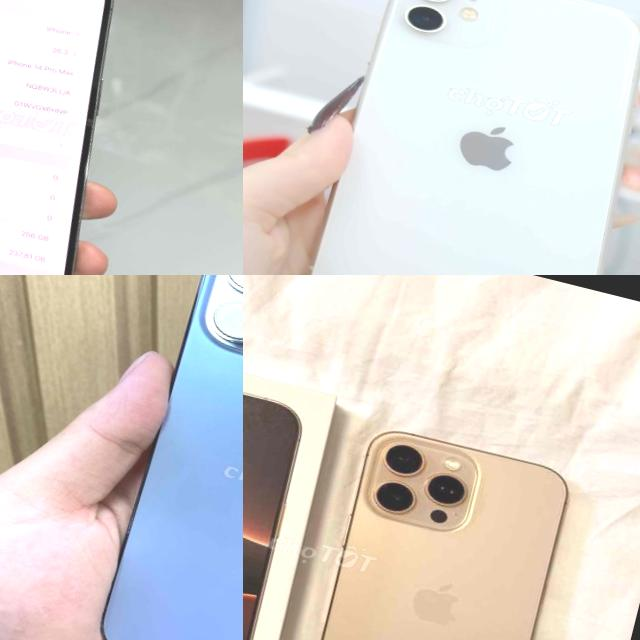gen_11: (289, 0, 640, 275)
gen_12_13: (79, 275, 243, 640)
gen_14: (0, 0, 156, 275)
gen_16: (277, 409, 594, 640)
